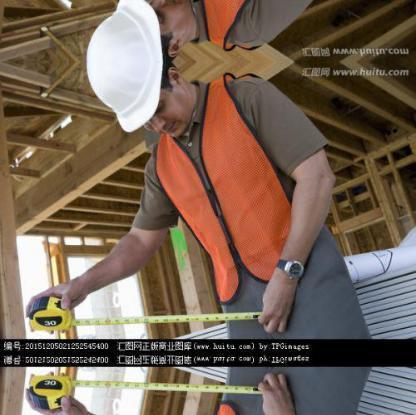helmet: (83, 59, 167, 137)
